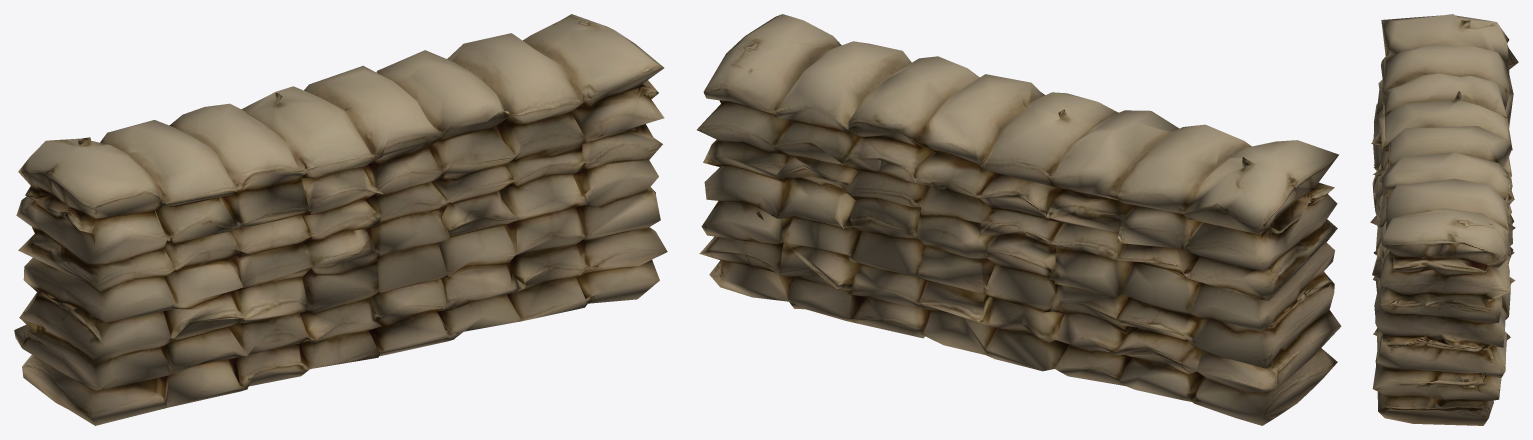
Rendered from sandbags.glb.
3 renders of one model, left to right at view 1: azimuth 30°, elevation 25°; view 2: azimuth 150°, elevation 25°; view 3: azimuth 270°, elevation 25°, orthographic. The views are drawn at different scales.
Visible parts, largest first — view 1: tripo_node_533fb0bf-4b16-41dd-911b-38fc2435f983; view 2: tripo_node_533fb0bf-4b16-41dd-911b-38fc2435f983; view 3: tripo_node_533fb0bf-4b16-41dd-911b-38fc2435f983.
Part boxes in pixels (x1,y1,x2,y2): tripo_node_533fb0bf-4b16-41dd-911b-38fc2435f983: (14, 14, 667, 425); tripo_node_533fb0bf-4b16-41dd-911b-38fc2435f983: (697, 14, 1341, 425); tripo_node_533fb0bf-4b16-41dd-911b-38fc2435f983: (1370, 14, 1518, 425).
Size of the model in its own units: 1 by 0.4156 by 0.2736.
1 material, 1 textured.
